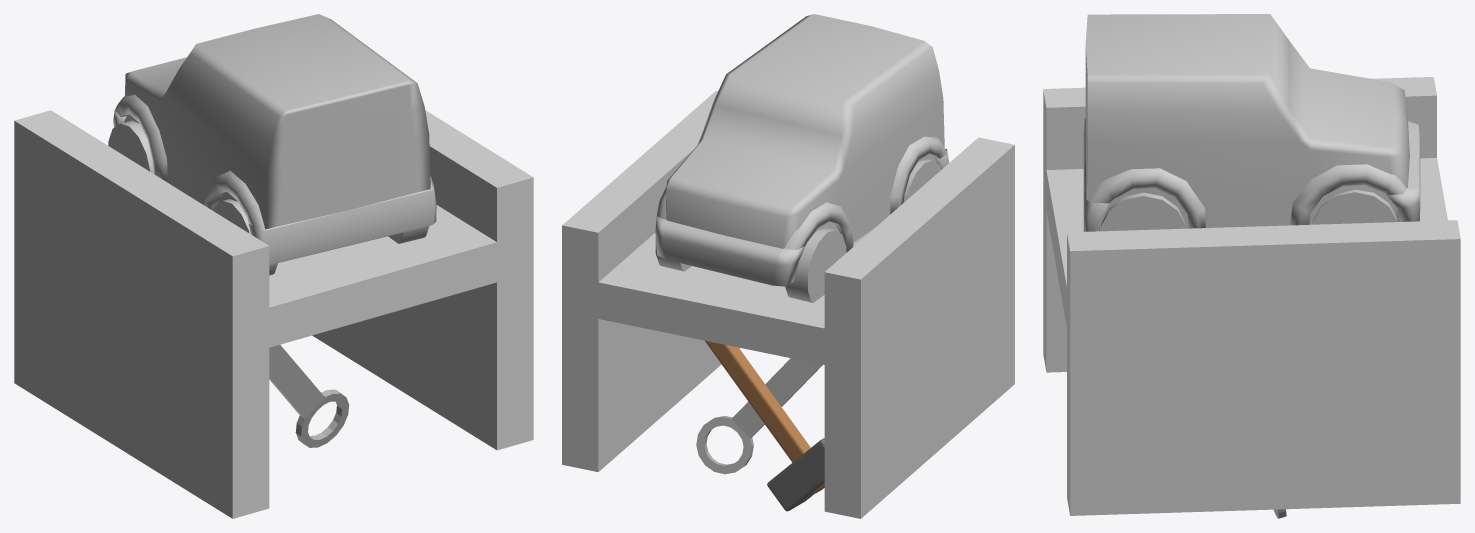
The model's file is 汽车维修.gltf.
The picture shows the model from 3 angles, left to right: view 1: azimuth 30°, elevation 25°; view 2: azimuth 150°, elevation 25°; view 3: azimuth 270°, elevation 25°; orthographic projection. The views are drawn at different scales.
Visible parts, largest first — view 1: node_Cube_-4666, node_JEEP_BODY_-4694, node_Cube (1)_-4668, node_Cube (2)_-4670, node_Wrench_Combination_-4662, node_side_object_-4696, node_front_rhs__wheel1_-4692, node_back_rhs_wheel1_-4688; view 2: node_Cube_-4666, node_JEEP_BODY_-4694, node_Cube (1)_-4668, node_Cube (2)_-4670, node_Wrench_Combination_-4662, node_Hammer_02_Handle_-4674, node_side_object_-4696, node_front_rhs__wheel1_-4692, node_Hammer_02_Top_-4676, node_back_rhs_wheel1_-4688; view 3: node_Cube (1)_-4668, node_JEEP_BODY_-4694, node_Cube_-4666, node_side_object_-4696, node_Cube (2)_-4670, node_back_lhs_wheel1_-4686, node_front_lhs_wheel1_-4690.
Part boxes in pixels (bbox=[...]): node_Cube_-4666: bbox=[14, 110, 269, 518]; node_JEEP_BODY_-4694: bbox=[113, 14, 436, 265]; node_Cube (1)_-4668: bbox=[312, 110, 533, 450]; node_Cube (2)_-4670: bbox=[268, 205, 496, 347]; node_Wrench_Combination_-4662: bbox=[269, 345, 349, 447]; node_side_object_-4696: bbox=[114, 94, 433, 229]; node_front_rhs__wheel1_-4692: bbox=[108, 120, 152, 173]; node_back_rhs_wheel1_-4688: bbox=[213, 199, 277, 275]; node_Cube_-4666: bbox=[824, 137, 1014, 518]; node_JEEP_BODY_-4694: bbox=[655, 14, 949, 286]; node_Cube (1)_-4668: bbox=[562, 90, 739, 472]; node_Cube (2)_-4670: bbox=[588, 233, 824, 364]; node_Wrench_Combination_-4662: bbox=[696, 358, 822, 474]; node_Hammer_02_Handle_-4674: bbox=[705, 340, 824, 493]; node_side_object_-4696: bbox=[656, 136, 947, 252]; node_front_rhs__wheel1_-4692: bbox=[785, 228, 846, 302]; node_Hammer_02_Top_-4676: bbox=[767, 438, 824, 511]; node_back_rhs_wheel1_-4688: bbox=[903, 159, 941, 202]; node_Cube (1)_-4668: bbox=[1067, 220, 1460, 515]; node_JEEP_BODY_-4694: bbox=[1083, 14, 1420, 231]; node_Cube_-4666: bbox=[1043, 77, 1436, 372]; node_side_object_-4696: bbox=[1088, 164, 1406, 228]; node_Cube (2)_-4670: bbox=[1046, 158, 1447, 326]; node_back_lhs_wheel1_-4686: bbox=[1101, 192, 1185, 231]; node_front_lhs_wheel1_-4690: bbox=[1312, 189, 1397, 224].
Bounding box in the file's own units: 0.1521 × 0.1873 × 0.1609.
